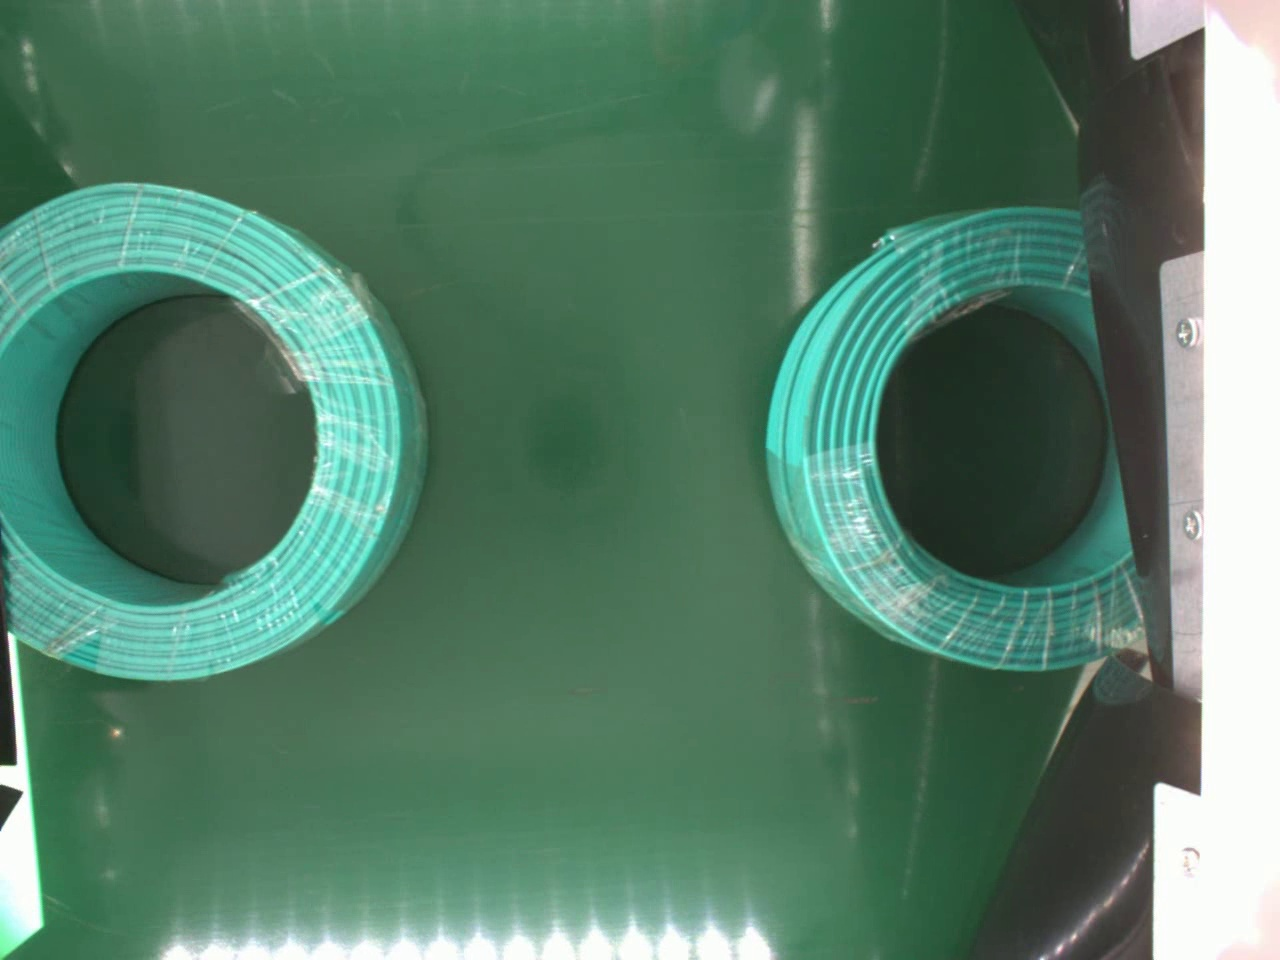green: (0, 179, 427, 683), (765, 205, 1146, 668)
